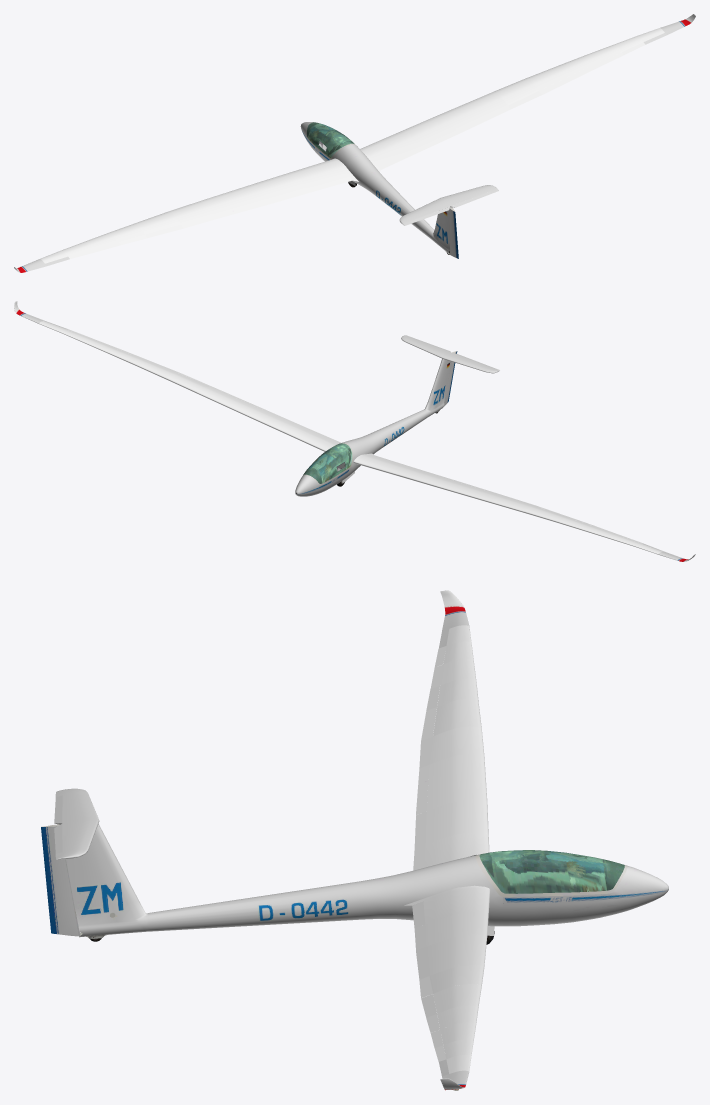
Rendered from LS8_18_stat.gltf.
3 renders of one model, top to bottom at view 1: azimuth 30°, elevation 25°; view 2: azimuth 150°, elevation 25°; view 3: azimuth 270°, elevation 25°, orthographic. The views are drawn at different scales.
Parts seen in each view (by area): view 1: node1, node10, node13, node3; view 2: node1, node10, node13; view 3: node10, node1, node13, node3.
Boxes of the visible parts, x1,y1,x2,y2 form: node1: [40, 28, 664, 263]; node10: [300, 122, 498, 258]; node13: [307, 122, 354, 157]; node3: [14, 14, 695, 272]; node1: [39, 321, 662, 554]; node10: [295, 335, 499, 496]; node13: [303, 443, 352, 483]; node10: [41, 788, 668, 1090]; node1: [404, 625, 490, 1073]; node13: [479, 850, 624, 893]; node3: [439, 590, 655, 1090].
Bounding box in the file's own units: 17.8 × 2.43 × 7.13.
